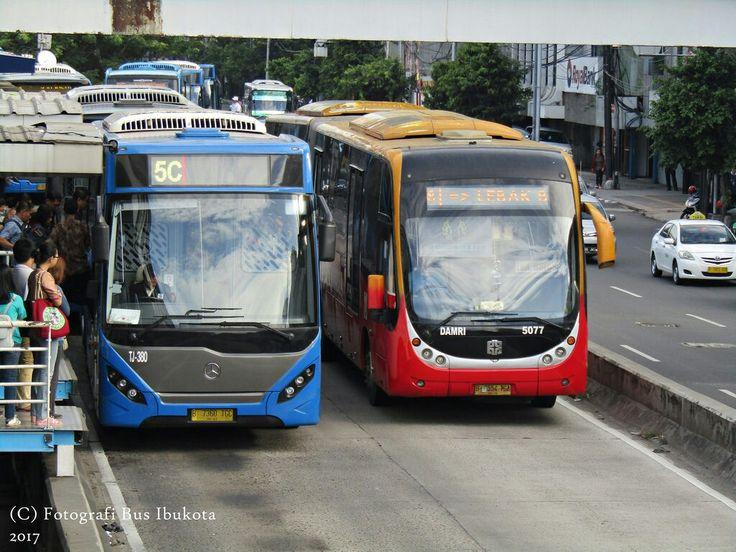mobil: (650, 219, 736, 283)
transjakarta: (264, 98, 590, 409), (85, 107, 335, 430), (65, 59, 221, 124), (236, 78, 304, 110)
